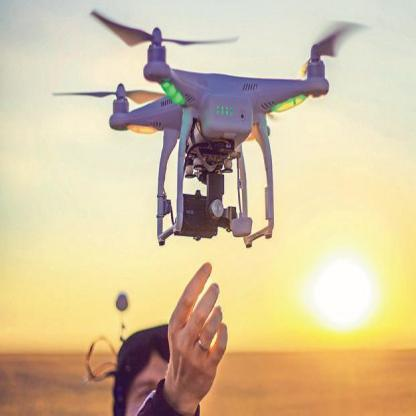drone: (46, 9, 394, 207)
